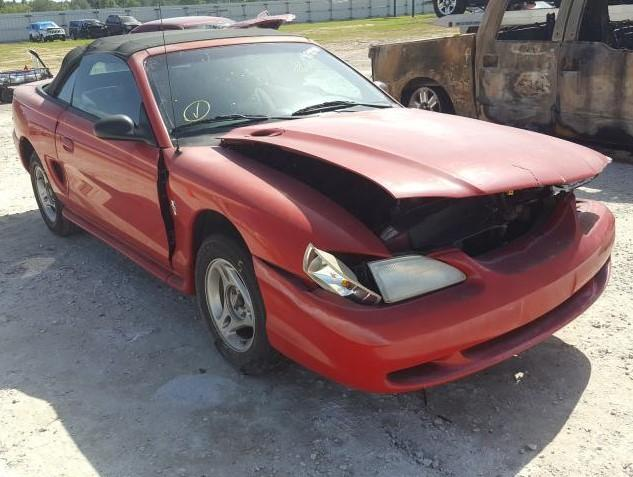Back-bumper: (11, 130, 28, 170)
Back-wheel: (30, 153, 82, 236)
Back-window: (53, 56, 84, 105)
Fender: (164, 142, 394, 283)
Front-bumper: (253, 185, 614, 396)
Front-door: (56, 53, 172, 268)
Front-wheel: (195, 233, 286, 374)
Front-window: (74, 57, 143, 125)
Headlight: (305, 243, 474, 305)
Hood: (214, 107, 609, 200)
Mirror: (94, 105, 160, 146), (368, 78, 390, 92)
Quarter-panel: (12, 84, 71, 207)
Rocker-panel: (63, 205, 190, 296)
Roof: (84, 28, 293, 57)
Trunk: (24, 78, 55, 90)
Windshield: (140, 42, 409, 140)
